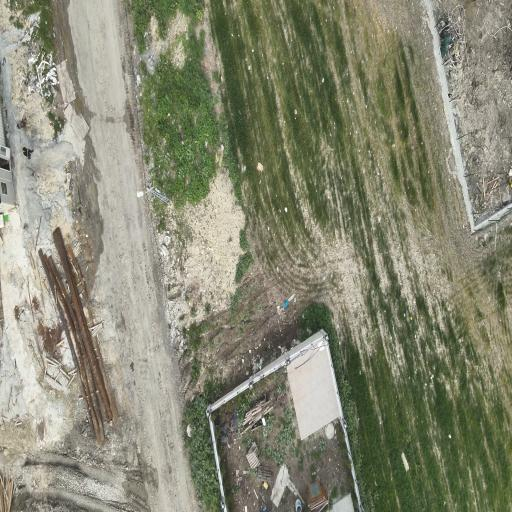person: (22, 147, 34, 160)
